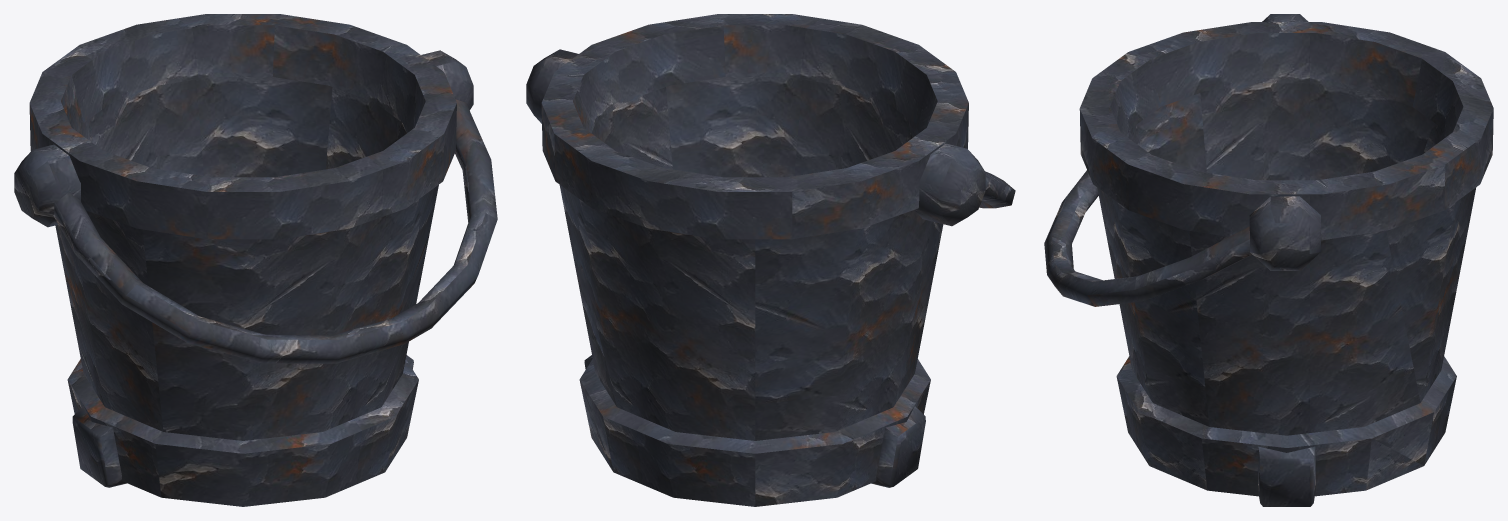
File: furn_bucket_metal.glb
3 renders of one model, left to right at view 1: azimuth 30°, elevation 25°; view 2: azimuth 150°, elevation 25°; view 3: azimuth 270°, elevation 25°, orthographic. The views are drawn at different scales.
Parts seen in each view (by area): view 1: model; view 2: model; view 3: model.
Boxes of the visible parts, left/top/right/bottom form: model: left=14, top=14, right=497, bottom=506; model: left=526, top=14, right=1015, bottom=506; model: left=1044, top=14, right=1493, bottom=506.
Size of the model in its own units: 0.4854 by 0.365 by 0.449.
1 material, 1 textured.
